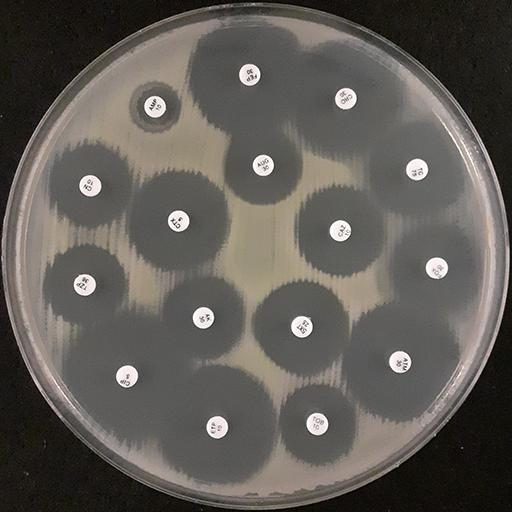disc: (425, 257, 448, 279), (389, 351, 412, 373), (306, 413, 329, 435), (239, 64, 261, 86), (335, 88, 357, 110), (144, 95, 166, 117), (252, 154, 274, 176), (406, 159, 428, 181), (79, 175, 101, 197), (167, 209, 189, 231), (329, 219, 351, 241), (74, 274, 96, 296), (193, 307, 215, 329), (290, 316, 312, 338), (115, 365, 137, 387), (206, 416, 228, 438)
